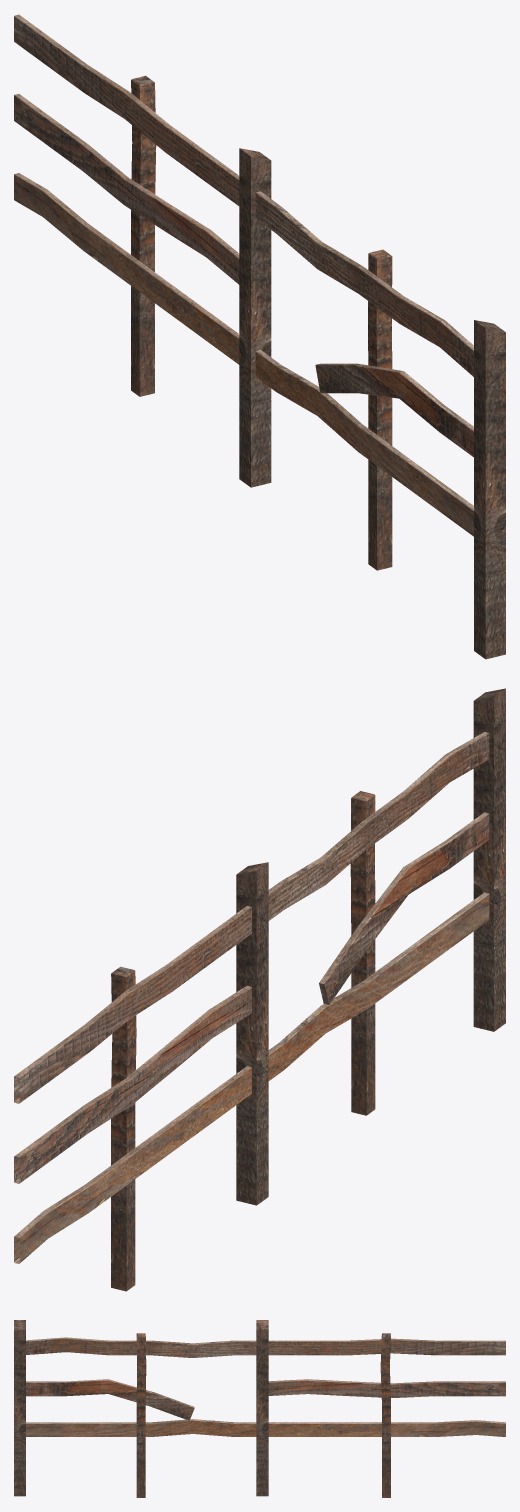
The model's file is fence4.fbx.
The picture shows the model from 3 angles, top to bottom: view 1: azimuth 30°, elevation 25°; view 2: azimuth 150°, elevation 25°; view 3: azimuth 270°, elevation 25°; orthographic projection. The views are drawn at different scales.
Parts seen in each view (by area): view 1: Fence without end.004; view 2: Fence without end.004; view 3: Fence without end.004.
Part boxes in pixels (box(x1,y1,x2,y2)): Fence without end.004: box(14, 14, 505, 659); Fence without end.004: box(14, 688, 505, 1291); Fence without end.004: box(14, 1320, 505, 1497).
Bounding box in the file's own units: 10.57 × 131 × 342.
Materials: 1 (1 with a texture image).
